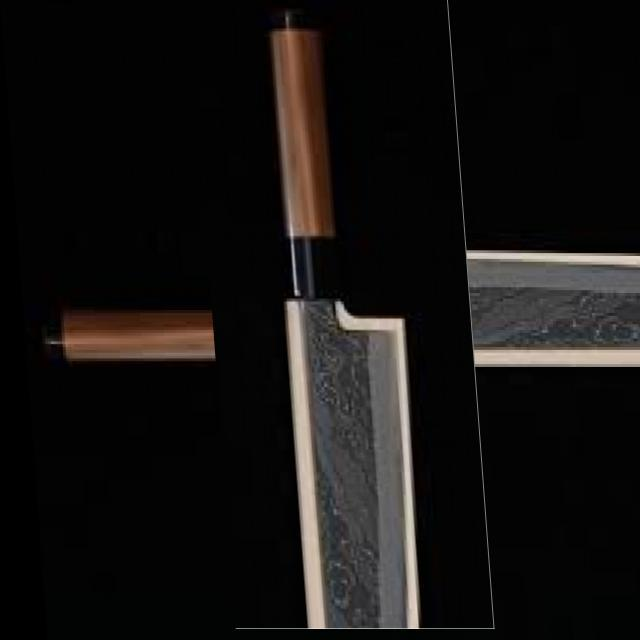knife: (268, 0, 419, 631), (38, 245, 640, 374)
